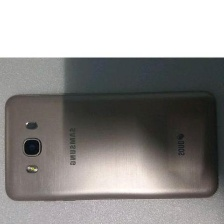phone: (2, 89, 221, 203)
